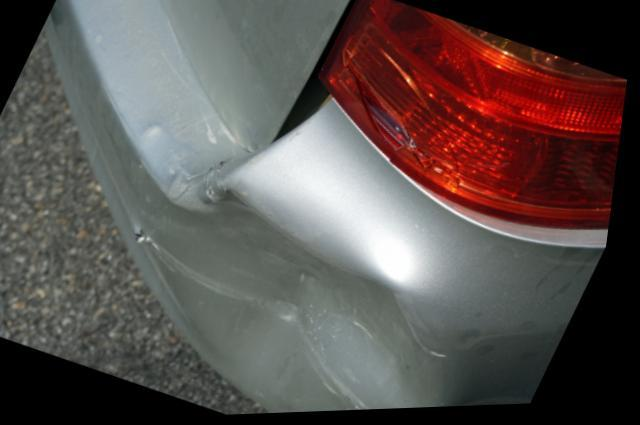dent: (157, 190, 445, 413)
lamp broken: (315, 0, 630, 235)
